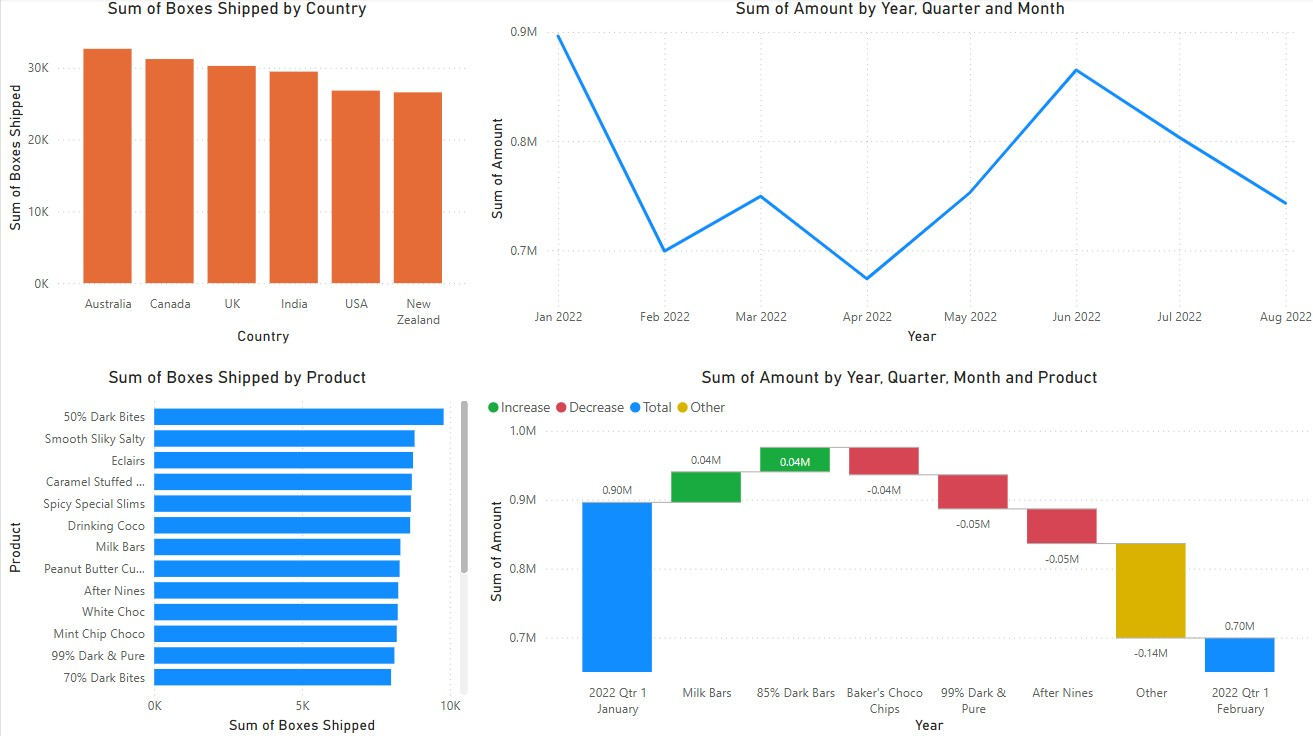

What the dashboard file says about the page in this screenshot:
{"tool":"powerbi","page":{"name":"Page 1","canvas":[1280,720],"ordinal":0},"visuals":[{"type":"columnChart","fields":{"Category":["data.Country"],"Y":["Sum(data.Boxes Shipped)"]},"box":[0,0,459.5,341.3],"z":0},{"type":"barChart","fields":{"Category":["data.Product"],"Y":["Sum(data.Boxes Shipped)"]},"box":[0,359.4,459.5,361],"z":1000},{"type":"lineChart","fields":{"Category":["data.Date.Variation.Date Hierarchy.Year","data.Date.Variation.Date Hierarchy.Quarter","data.Date.Variation.Date Hierarchy.Month","data.Date.Variation.Date Hierarchy.Day"],"Y":["Sum(data.Amount)"]},"box":[468.3,0,811.7,341.6],"z":2000},{"type":"waterfallChart","fields":{"Category":["data.Date.Variation.Date Hierarchy.Year","data.Date.Variation.Date Hierarchy.Quarter","data.Date.Variation.Date Hierarchy.Month"],"Breakdown":["data.Product"],"Y":["Sum(data.Amount)"]},"box":[468,359,812,361],"z":3000}]}

Visuals, with their boxes in screenshot pixels (x1, y1, x2, y2), scaled from the page's 1280x720 canvas onto the 1313x736 screenshot:
columnChart - data.Country x Sum(data.Boxes Shipped): bbox=(0, 0, 471, 349)
barChart - data.Product x Sum(data.Boxes Shipped): bbox=(0, 367, 471, 735)
lineChart - data.Date.Variation.Date Hierarchy.Year x data.Date.Variation.Date Hierarchy.Quarter: bbox=(480, 0, 1312, 349)
waterfallChart - data.Date.Variation.Date Hierarchy.Year x data.Date.Variation.Date Hierarchy.Quarter: bbox=(480, 367, 1312, 735)
